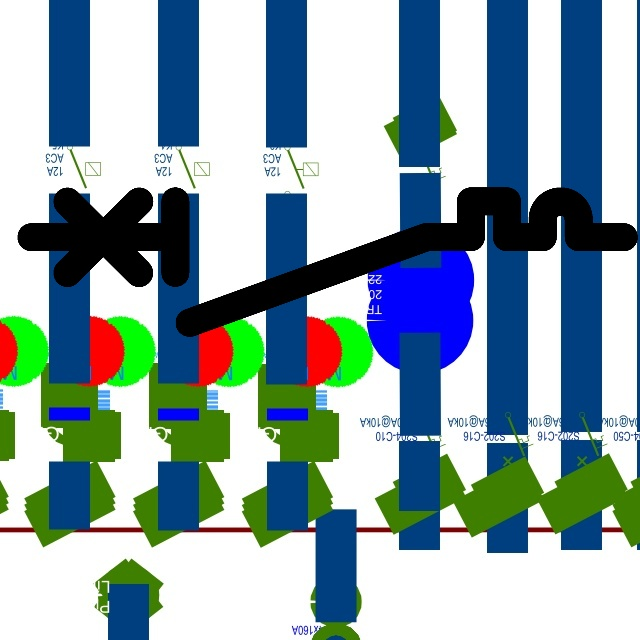interruptor_termomagnetico: (16, 186, 639, 338)
